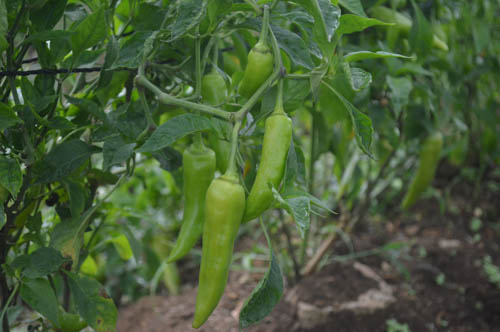ChiliPepper: (193, 180, 246, 327), (243, 114, 292, 225), (168, 148, 212, 269), (201, 73, 230, 174), (403, 136, 442, 210), (238, 49, 273, 103)
